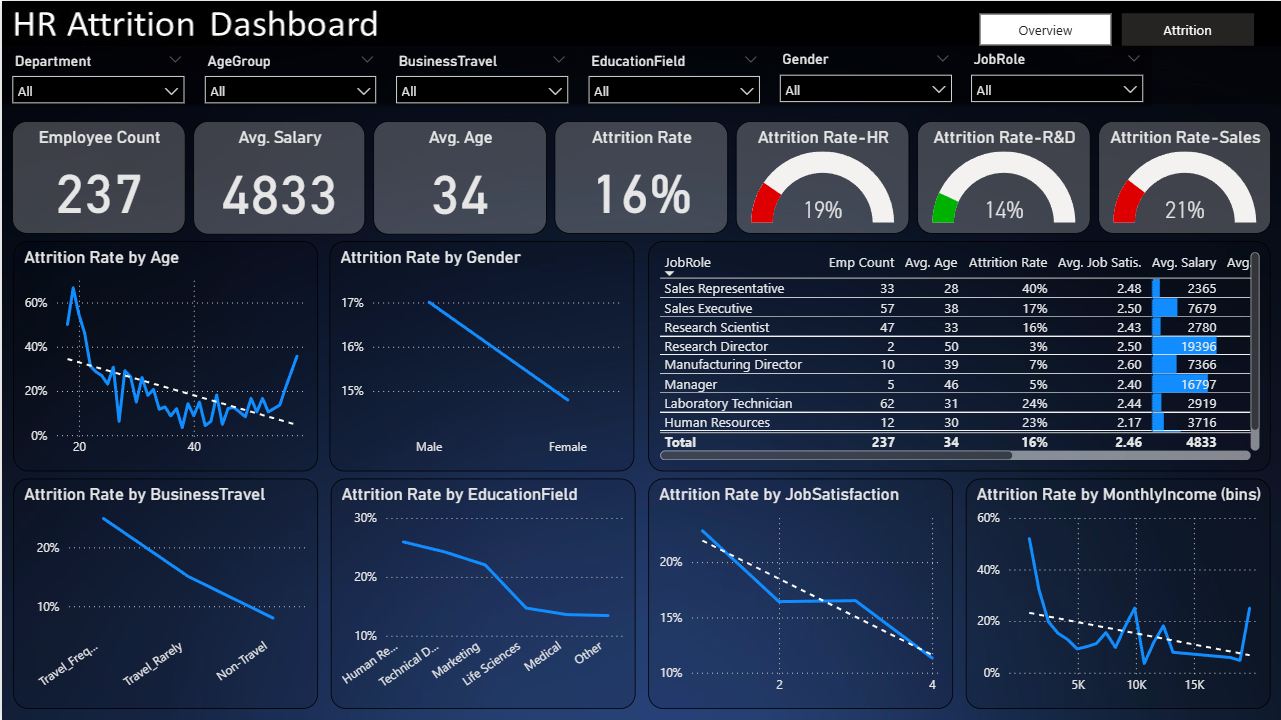

This screenshot's page, from the dashboard's own definition file:
{"tool":"powerbi","page":{"name":"Attrition","canvas":[1280,720],"ordinal":1},"visuals":[{"type":"slicer","fields":{"Values":["Department.Department"]},"box":[0,45.8,192.1,59.3],"z":0},{"type":"card","title":"Employee Count","fields":{"Values":["HR_Analytics.Employee Count"]},"box":[10.5,120.4,173.5,113],"z":1000},{"type":"slicer","fields":{"Values":["HR_Analytics.AgeGroup"]},"box":[192.1,45.8,191.9,59.3],"z":2000},{"type":"slicer","fields":{"Values":["HR_Analytics.BusinessTravel"]},"box":[383.8,45.8,192.1,59.3],"z":3000},{"type":"slicer","fields":{"Values":["HR_Analytics.Gender"]},"box":[767.2,45.1,192.1,60.7],"z":4000},{"type":"slicer","fields":{"Values":["HR_Analytics.EducationField"]},"box":[575.9,45.8,191.4,59.3],"z":5000},{"type":"slicer","fields":{"Values":["HR_Analytics.JobRole"]},"box":[959.3,45.1,192.1,60.7],"z":6000},{"type":"card","title":"Avg. Salary","fields":{"Values":["HR_Analytics.Average Salary"]},"box":[191.8,120,172.1,114],"z":7000},{"type":"card","title":"Avg. Age","fields":{"Values":["HR_Analytics.Average Age"]},"box":[371.7,120,173.3,114],"z":8000},{"type":"card","title":"Attrition Rate","fields":{"Values":["HR_Analytics.Attrition Rate"]},"box":[552.7,120.5,173.3,112.8],"z":9000},{"type":"tableEx","fields":{"Values":["HR_Analytics.JobRole","HR_Analytics.Employee Count","HR_Analytics.Average Age","HR_Analytics.Attrition Rate","HR_Analytics.Average Job Satisfaction","HR_Analytics.Average Salary","HR_Analytics.Average Salary Hike","HR_Analytics.Gender Ratio","HR_Analytics.OverTime %","HR_Analytics.Average Years","HR_Analytics.Attrition Count"]},"box":[646.4,240,622.7,230],"z":10000},{"type":"gauge","title":"Attrition Rate-HR","fields":{"Y":["HR_Analytics.Attrition Rate"]},"box":[733.8,120.6,173.3,112.7],"z":11000},{"type":"gauge","title":"Attrition Rate-R&D","fields":{"Y":["HR_Analytics.Attrition Rate"]},"box":[914.9,120.6,173.3,112.7],"z":12000},{"type":"gauge","title":"Attrition Rate-Sales","fields":{"Y":["HR_Analytics.Attrition Rate"]},"box":[1096,120.6,172.7,112.7],"z":13000},{"type":"lineChart","fields":{"Category":["HR_Analytics.Age"],"Y":["HR_Analytics.Attrition Rate"]},"box":[11.8,240,304.5,230],"z":14000},{"type":"lineChart","fields":{"Y":["HR_Analytics.Attrition Rate"],"Category":["HR_Analytics.BusinessTravel"]},"box":[11.8,477.6,304.5,230],"z":15000},{"type":"lineChart","fields":{"Y":["HR_Analytics.Attrition Rate"],"Category":["HR_Analytics.EducationField"]},"box":[329.2,477.6,304.5,230],"z":16000},{"type":"lineChart","fields":{"Y":["HR_Analytics.Attrition Rate"],"Category":["HR_Analytics.Gender"]},"box":[327.3,240,304.5,230],"z":17000},{"type":"lineChart","fields":{"Y":["HR_Analytics.Attrition Rate"],"Category":["HR_Analytics.JobSatisfaction"]},"box":[646.5,477.6,304.7,230],"z":18000},{"type":"lineChart","fields":{"Y":["HR_Analytics.Attrition Rate"],"Category":["HR_Analytics.MonthlyIncome (bins)"]},"box":[964,477.6,304.7,230],"z":19000},{"type":"pageNavigator","box":[977.9,12.8,275.6,32.6],"z":20000}]}

Visuals, with their boxes in screenshot pixels (x1, y1, x2, y2), scaled from the page's 1280x720 canvas onto the 1281x720 screenshot:
slicer - Department.Department: 0/46/192/105
"Employee Count" card: 11/120/184/233
slicer - HR_Analytics.AgeGroup: 192/46/384/105
slicer - HR_Analytics.BusinessTravel: 384/46/576/105
slicer - HR_Analytics.Gender: 768/45/960/106
slicer - HR_Analytics.EducationField: 576/46/768/105
slicer - HR_Analytics.JobRole: 960/45/1152/106
"Avg. Salary" card: 192/120/364/234
"Avg. Age" card: 372/120/545/234
"Attrition Rate" card: 553/120/727/233
tableEx - HR_Analytics.JobRole x HR_Analytics.Employee Count: 647/240/1270/470
"Attrition Rate-HR" gauge: 734/121/908/233
"Attrition Rate-R&D" gauge: 916/121/1089/233
"Attrition Rate-Sales" gauge: 1097/121/1270/233
lineChart - HR_Analytics.Age x HR_Analytics.Attrition Rate: 12/240/317/470
lineChart - HR_Analytics.Attrition Rate x HR_Analytics.BusinessTravel: 12/478/317/708
lineChart - HR_Analytics.Attrition Rate x HR_Analytics.EducationField: 329/478/634/708
lineChart - HR_Analytics.Attrition Rate x HR_Analytics.Gender: 328/240/632/470
lineChart - HR_Analytics.Attrition Rate x HR_Analytics.JobSatisfaction: 647/478/952/708
lineChart - HR_Analytics.Attrition Rate x HR_Analytics.MonthlyIncome (bins): 965/478/1270/708
pageNavigator: 979/13/1254/45
